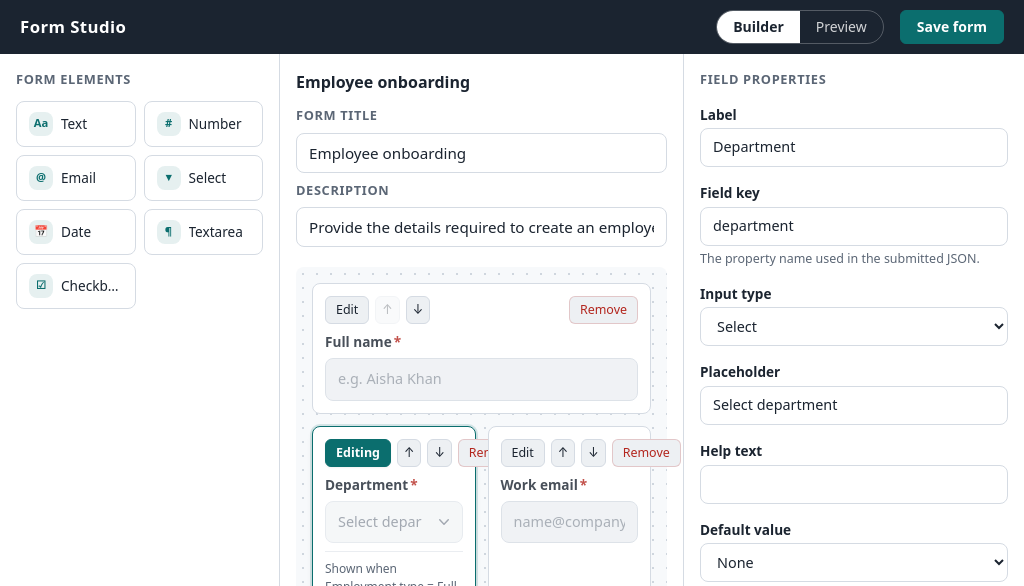
Test case: App: preview and save › shows why the preview is blocked when the config has errors
The image size is (1024, 586).
Click the button with aria-label "Add Text field" at (76, 124), box [16,100,136,146]
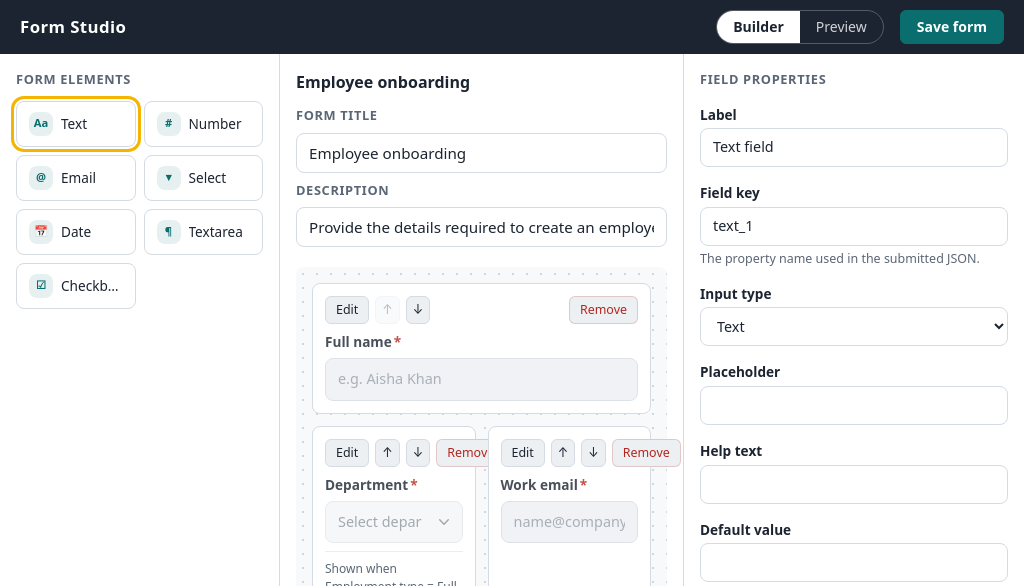
Replace the text in the field labelled "Field key" with "full_name" at (854, 226), box [700,207,1008,246]
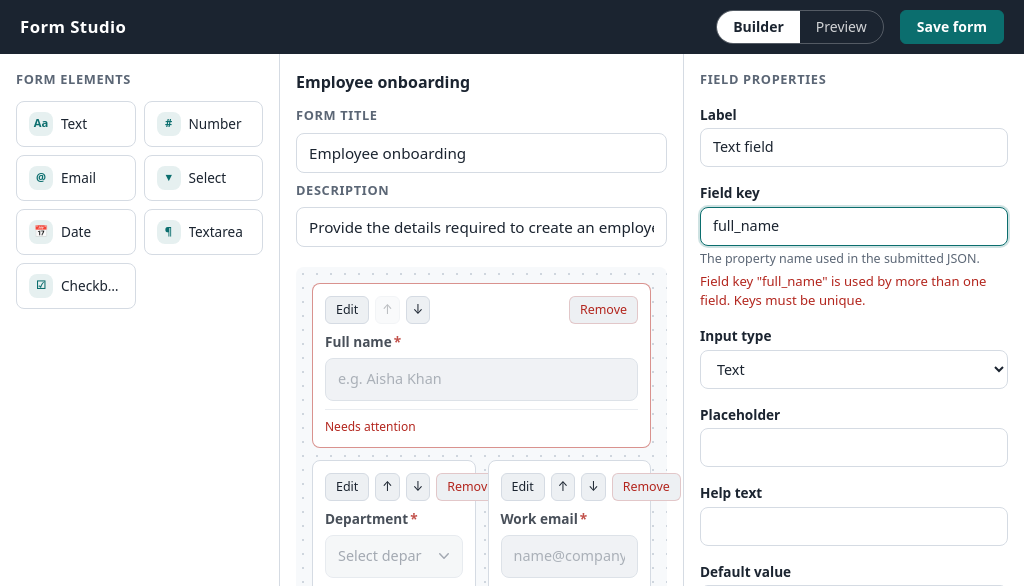
Click the button "Preview" at (841, 27), box [800,11,883,43]
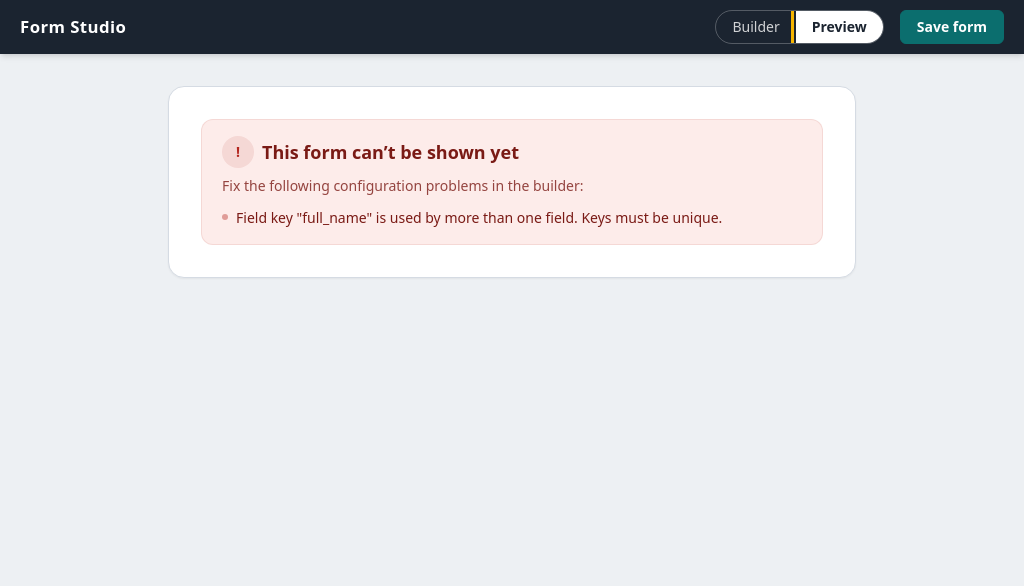
expect the heading "This form can’t be shown yet" is shown: met, box [262,138,519,166]
